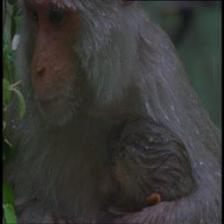monkey: (0, 2, 90, 127), (94, 116, 140, 224)
